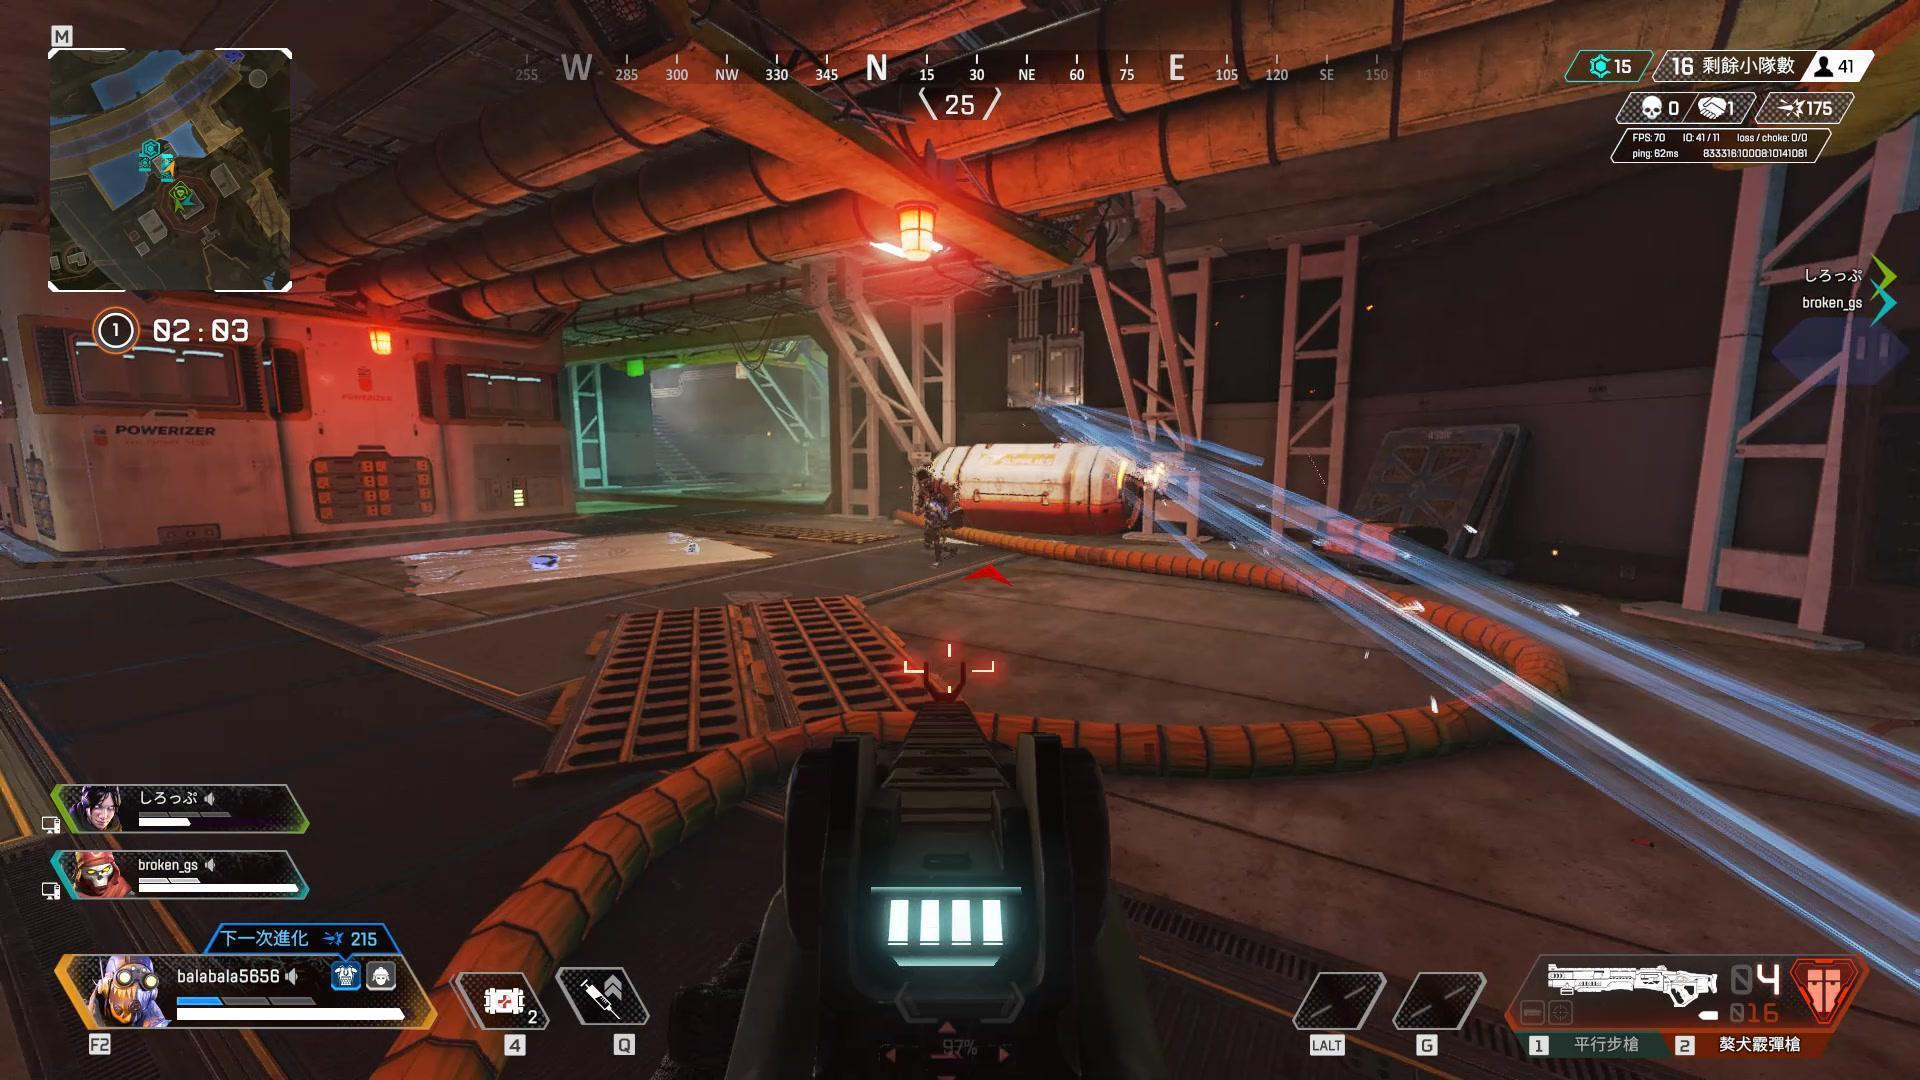avatar: (911, 466, 968, 571)
